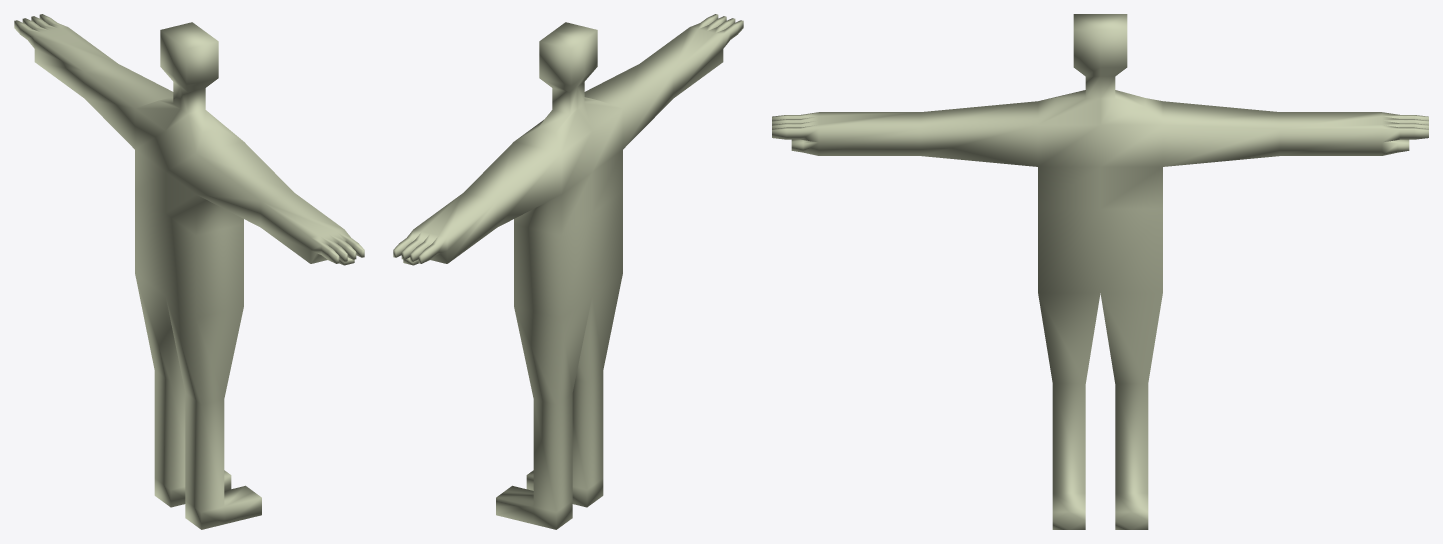
The model's file is robot.obj.
3 views of the same model, side by side, from view 1: azimuth 30°, elevation 25°; view 2: azimuth 150°, elevation 25°; view 3: azimuth 270°, elevation 25° (orthographic).
Parts seen in each view (by area): view 1: Cube1; view 2: Cube1; view 3: Cube1.
Boxes of the visible parts, x1=… form: Cube1: x1=14, y1=14, x2=364, y2=529; Cube1: x1=393, y1=14, x2=743, y2=529; Cube1: x1=772, y1=14, x2=1428, y2=529.
Size of the model in its own units: 1.38 by 8.55 by 10.52.
